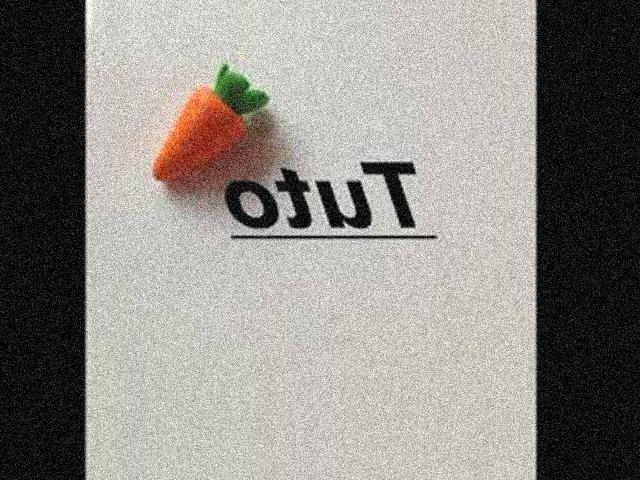carrot: (140, 88, 248, 204)
